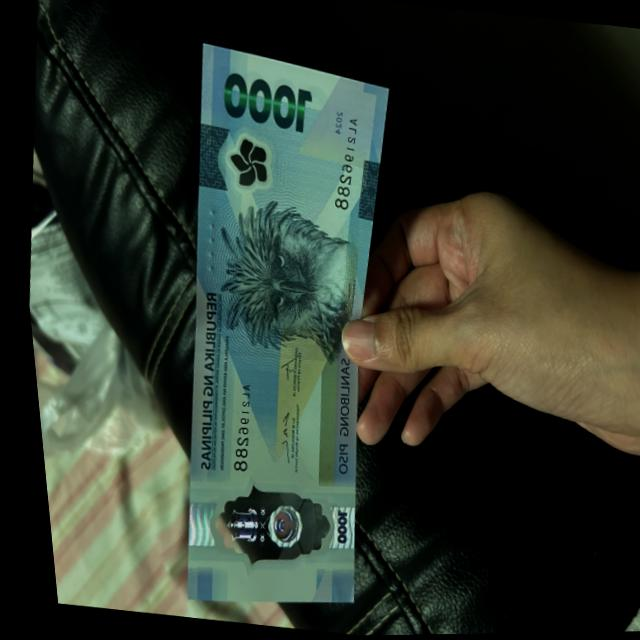clear_window: (191, 474, 332, 564)
eagle: (201, 200, 360, 367)
sampaguita: (220, 130, 272, 192)
